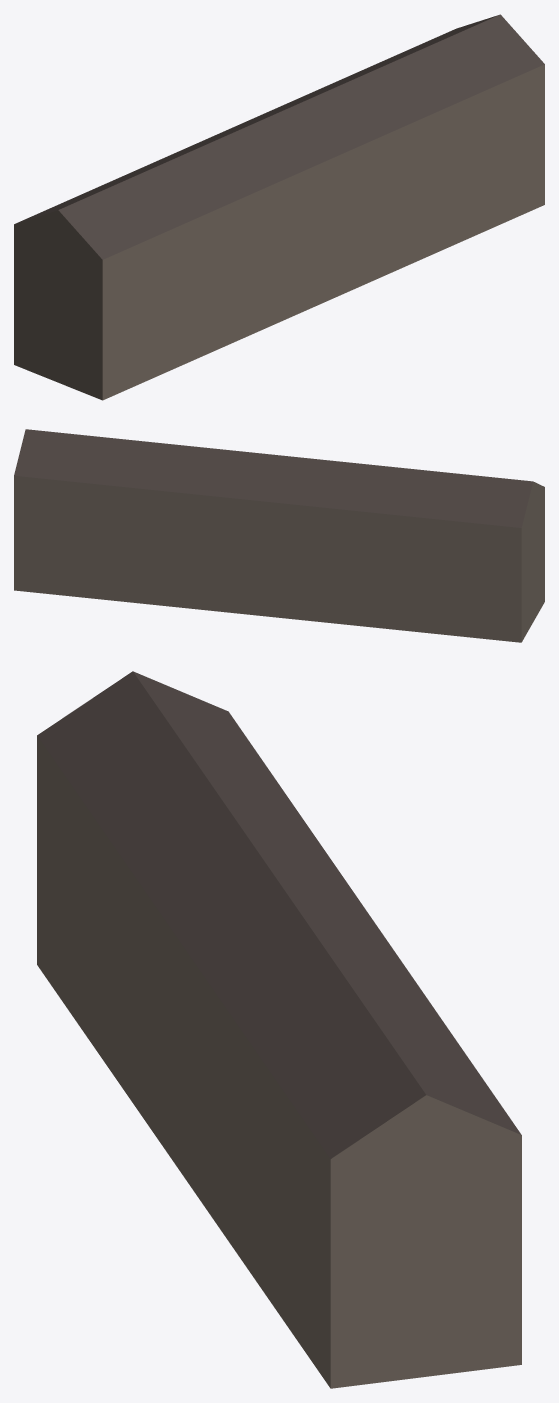
3 renders of one model, top to bottom at view 1: azimuth 30°, elevation 25°; view 2: azimuth 150°, elevation 25°; view 3: azimuth 270°, elevation 25°, orthographic. The views are drawn at different scales.
Parts seen in each view (by area): view 1: HP-w859424175; view 2: HP-w859424175; view 3: HP-w859424175.
Part boxes in pixels (x1,y1,x2,y2): HP-w859424175: (14,14,544,400); HP-w859424175: (14,429,544,642); HP-w859424175: (37,671,521,1388).
Bounding box in the file's own units: 37.66 × 11.05 × 17.23.
